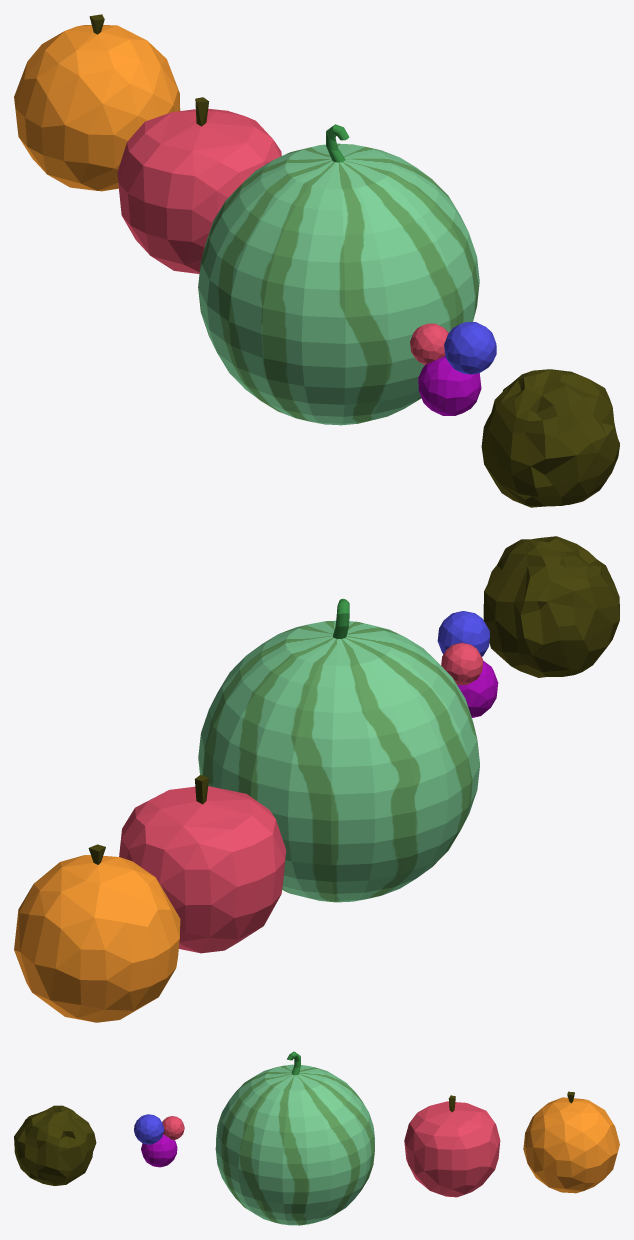
Rendered from Frutas del Bosque.glb.
3 views of the same model, one above another, from view 1: azimuth 30°, elevation 25°; view 2: azimuth 150°, elevation 25°; view 3: azimuth 270°, elevation 25° (orthographic). The views are drawn at different scales.
Visible parts, largest first — view 1: Sandía, Naranja, Manzana, Podrido, Moras; view 2: Sandía, Naranja, Manzana, Podrido, Moras; view 3: Sandía, Manzana, Naranja, Podrido, Moras.
Part boxes in pixels (box(x1,y1,x2,y2)): Sandía: box(198, 124, 479, 425); Naranja: box(14, 14, 180, 191); Manzana: box(117, 97, 281, 273); Podrido: box(481, 369, 619, 507); Moras: box(410, 322, 496, 415); Sandía: box(198, 598, 479, 902); Naranja: box(14, 844, 180, 1022); Manzana: box(119, 775, 286, 953); Podrido: box(483, 536, 619, 677); Moras: box(437, 611, 498, 717); Sandía: box(215, 1051, 374, 1225); Manzana: box(404, 1095, 500, 1197); Naranja: box(523, 1091, 619, 1193); Podrido: box(14, 1105, 96, 1185); Moras: box(134, 1114, 184, 1167).
Bounding box in the file's own units: 3.01 × 3.44 × 11.47.
Materials: 7 (1 with a texture image).
